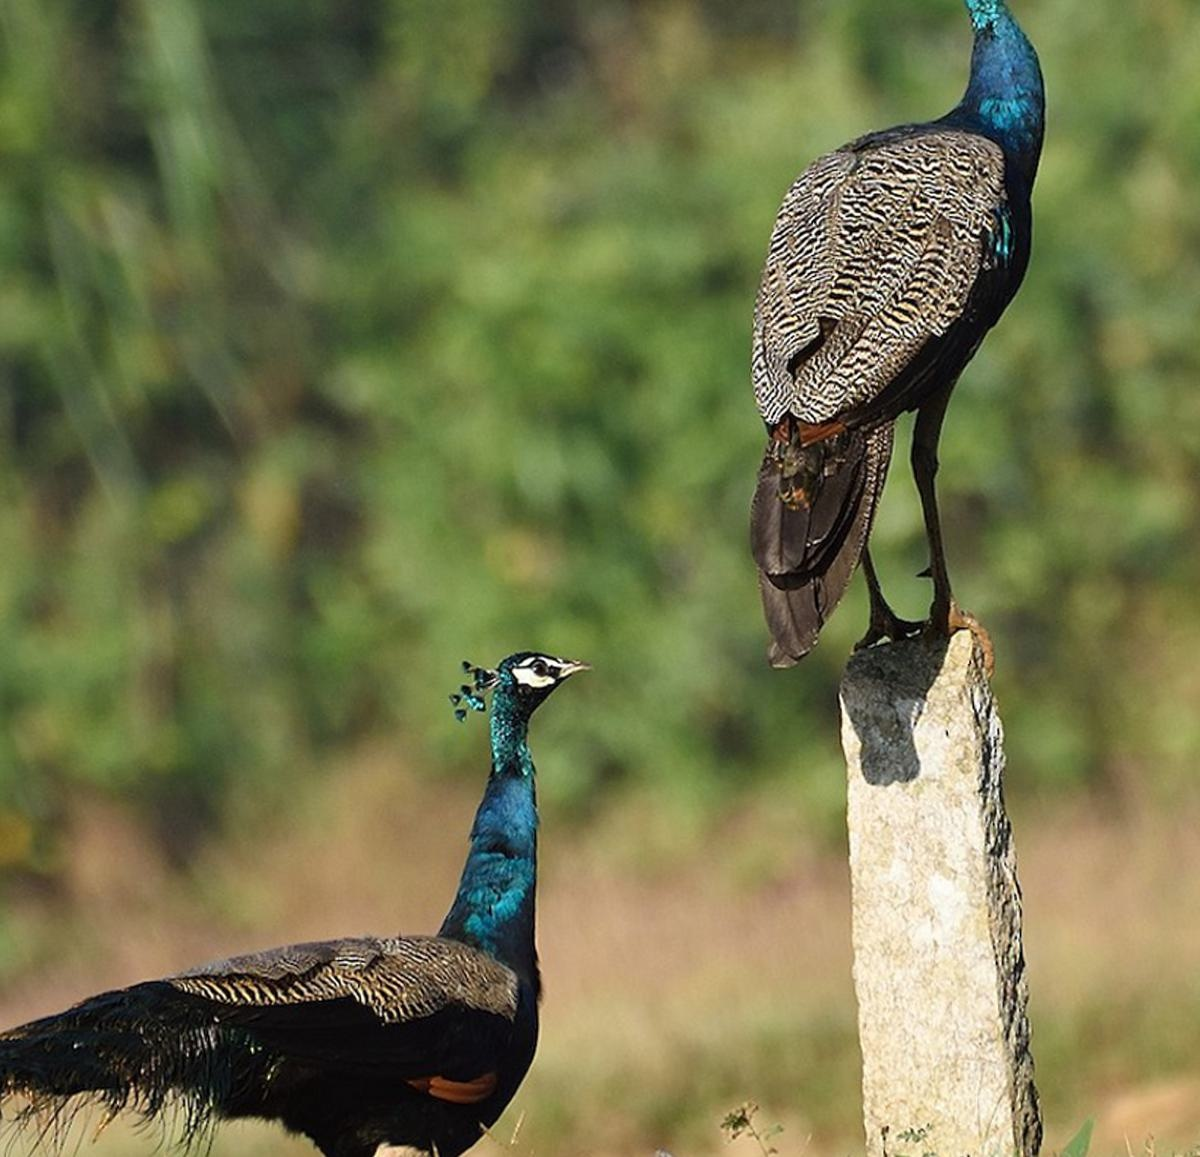peacock: (22, 589, 617, 1157), (684, 1, 1140, 692)
